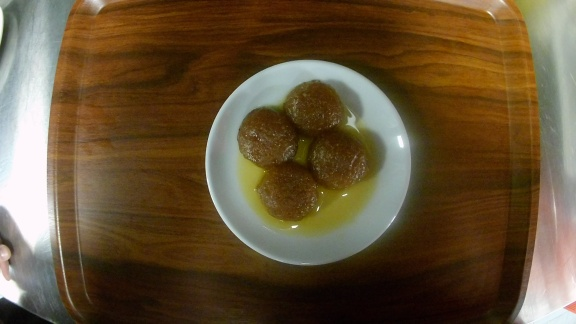kemalpasa: (205, 58, 413, 265)
